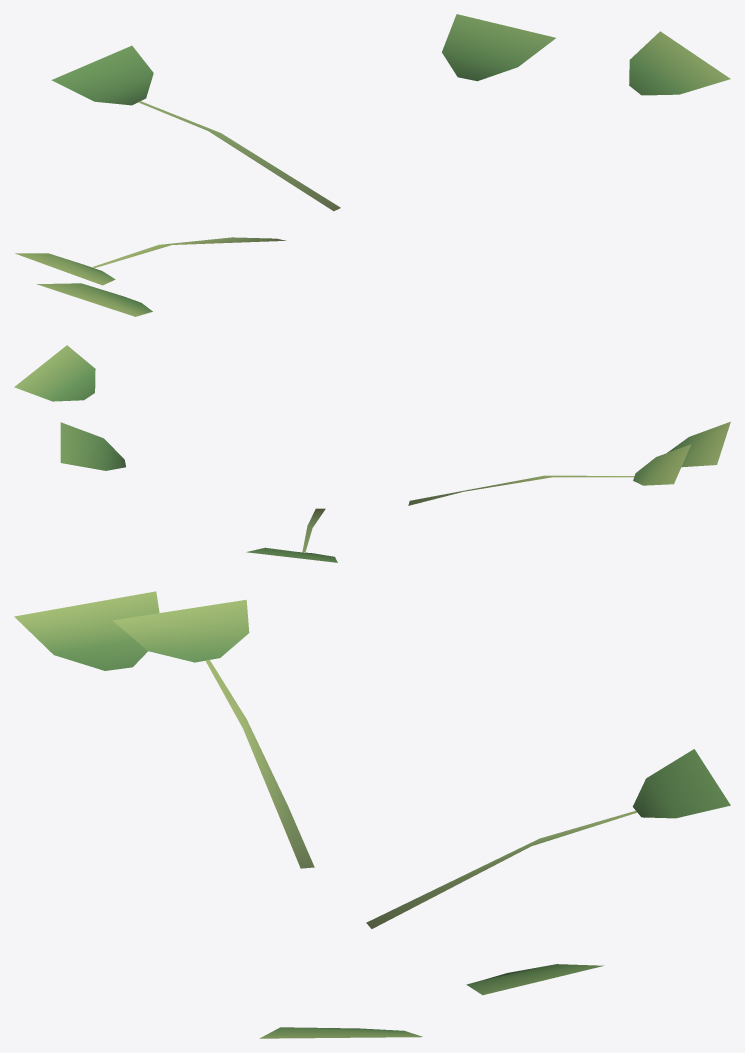
The model's file is CloverPatch_LOD2.glb.
3 views of the same model, one above another, from view 1: azimuth 30°, elevation 25°; view 2: azimuth 150°, elevation 25°; view 3: azimuth 270°, elevation 25° (orthographic). The views are drawn at different scales.
Visible parts, largest first — view 1: CloverPatch_LOD2; view 2: CloverPatch_LOD2; view 3: CloverPatch_LOD2.
Boxes of the visible parts, left/top/right/bottom form: CloverPatch_LOD2: left=15, top=14, right=730, bottom=316; CloverPatch_LOD2: left=14, top=345, right=730, bottom=562; CloverPatch_LOD2: left=14, top=591, right=730, bottom=1038.
Size of the model in its own units: 0.2527 by 0.0276 by 0.1737.
